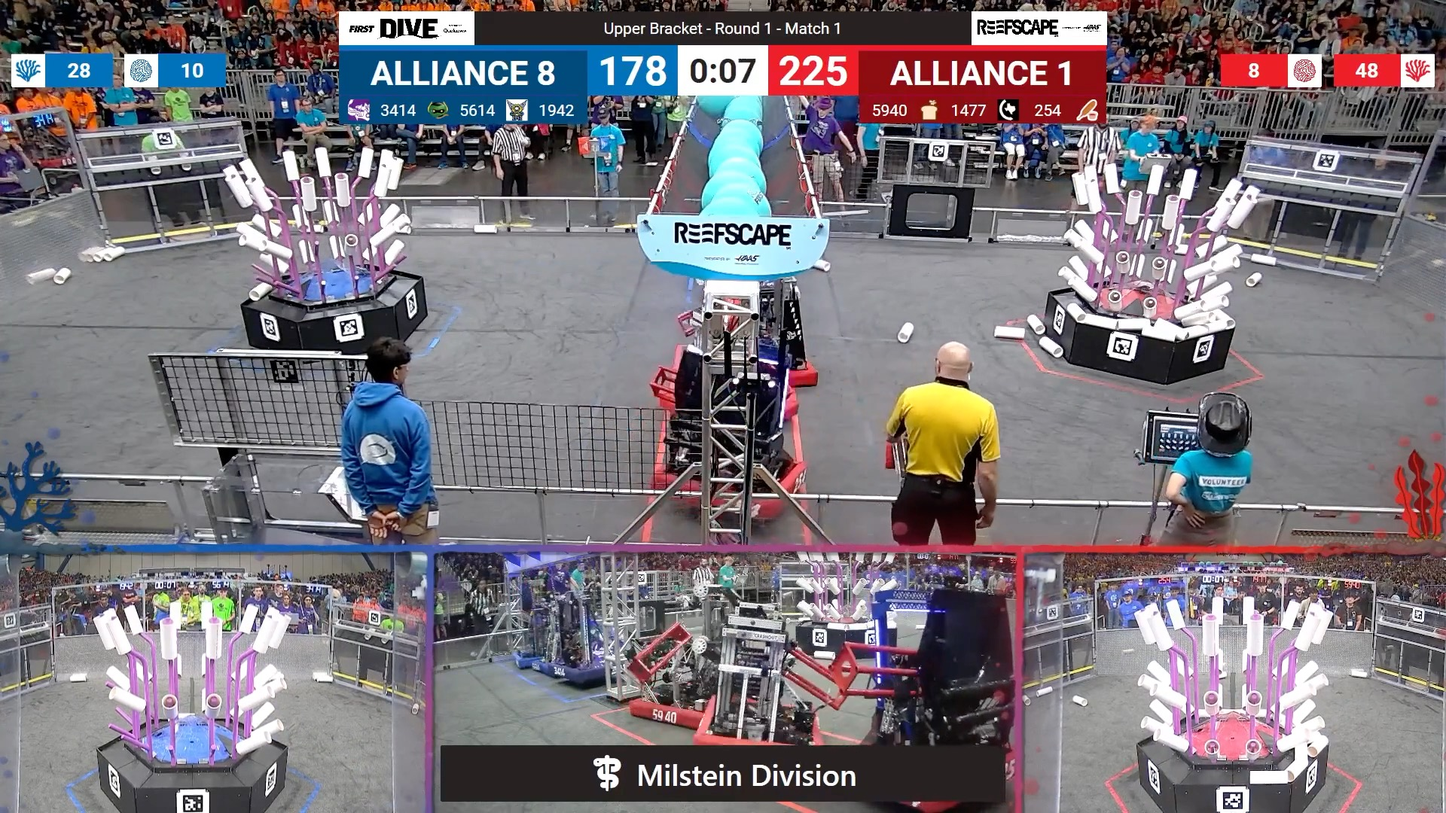bumpers: (643, 442, 808, 520), (687, 699, 827, 751), (627, 690, 721, 724), (520, 657, 630, 686), (776, 355, 826, 392), (513, 653, 560, 671)
